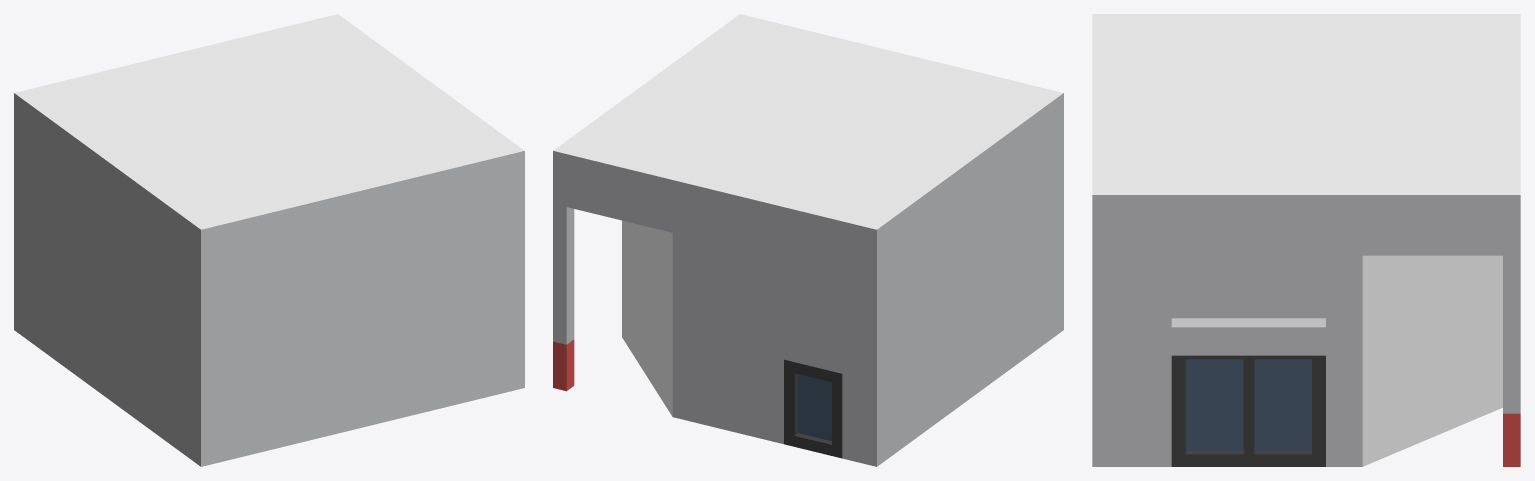
The model's file is pits-garage-corner.dae.
3 renders of one model, left to right at view 1: azimuth 30°, elevation 25°; view 2: azimuth 150°, elevation 25°; view 3: azimuth 270°, elevation 25°, orthographic. The views are drawn at different scales.
Parts seen in each view (by area): view 1: pitsGarageCorner; view 2: pitsGarageCorner; view 3: pitsGarageCorner.
Part boxes in pixels (box(x1,y1,x2,y2)): pitsGarageCorner: box(14, 14, 524, 466); pitsGarageCorner: box(553, 14, 1063, 466); pitsGarageCorner: box(1092, 14, 1520, 466).
Size of the model in its own units: 1.05 by 0.7 by 1.
